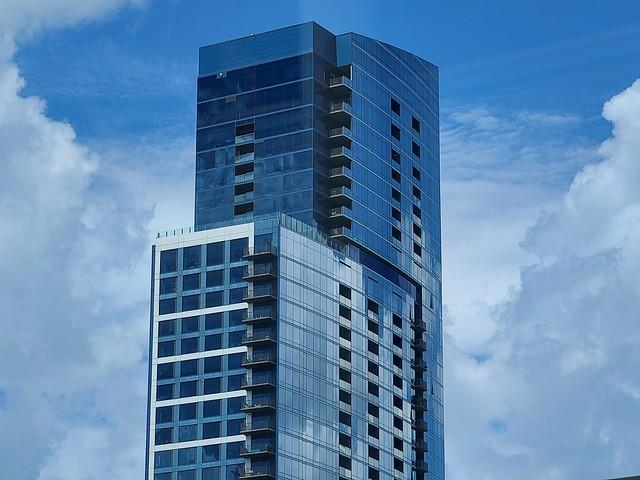building: (138, 17, 449, 480)
